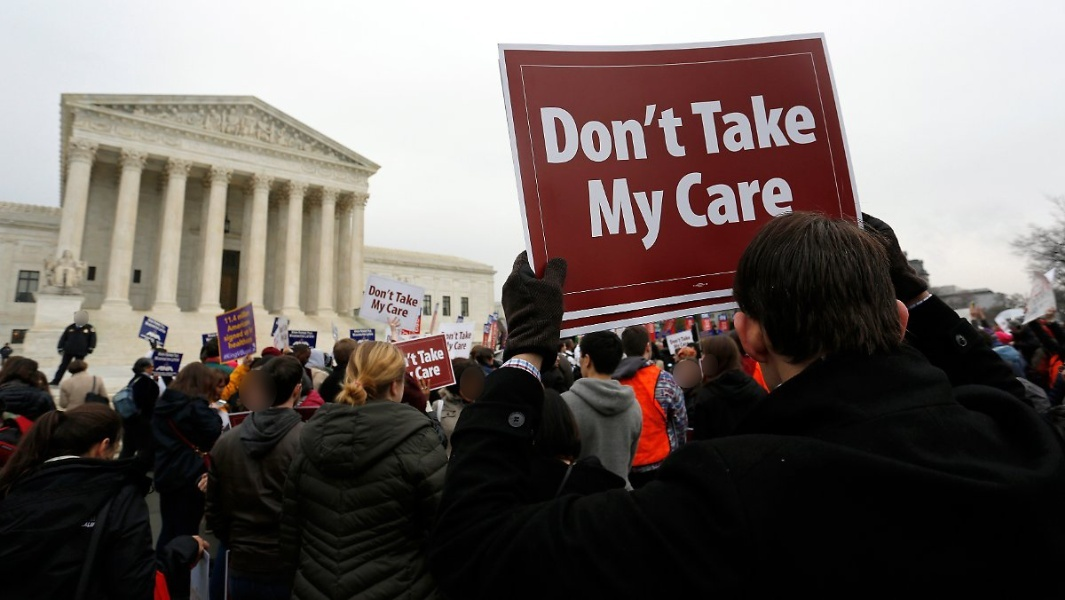text: (657, 175, 673, 253), (593, 175, 608, 253), (609, 175, 624, 253), (625, 175, 640, 253), (641, 175, 656, 253), (545, 98, 560, 166), (561, 98, 576, 166), (577, 98, 592, 166), (593, 98, 608, 166), (609, 98, 624, 166), (625, 98, 640, 166), (641, 98, 656, 166), (657, 98, 672, 166), (705, 90, 720, 158), (721, 90, 736, 158), (737, 90, 752, 158), (753, 90, 768, 158), (769, 90, 784, 158), (785, 90, 800, 158), (801, 90, 816, 158), (673, 98, 687, 166), (690, 90, 704, 158), (673, 173, 688, 233), (689, 173, 704, 233), (705, 173, 720, 233), (721, 173, 736, 233), (737, 173, 752, 233), (753, 173, 768, 233), (769, 173, 784, 233), (785, 173, 798, 233), (584, 175, 592, 253), (537, 98, 544, 166), (417, 345, 432, 365), (401, 350, 416, 370), (401, 289, 416, 308), (225, 325, 240, 344), (417, 363, 432, 381), (146, 316, 160, 335), (241, 325, 255, 344), (433, 345, 446, 365), (372, 295, 384, 316), (225, 309, 240, 325), (673, 332, 688, 348), (225, 318, 240, 333), (371, 285, 384, 302), (225, 347, 240, 361), (817, 90, 820, 158), (387, 302, 400, 317), (227, 336, 240, 350), (241, 336, 254, 350), (433, 363, 443, 381), (241, 318, 253, 333), (385, 285, 395, 302), (241, 347, 253, 361), (161, 352, 176, 363), (241, 309, 251, 325), (401, 302, 411, 317), (289, 330, 304, 340), (161, 316, 167, 335), (305, 330, 316, 340), (353, 330, 368, 337), (689, 332, 695, 348), (449, 331, 458, 341), (455, 341, 464, 350), (449, 341, 455, 352), (465, 332, 473, 340), (668, 332, 672, 348), (671, 173, 672, 233), (417, 350, 420, 370), (442, 331, 448, 341), (397, 289, 400, 308), (417, 289, 420, 308), (221, 325, 224, 344), (155, 352, 160, 363), (413, 363, 416, 381), (465, 341, 470, 350), (177, 352, 181, 363), (444, 341, 448, 352), (385, 295, 387, 316), (369, 330, 375, 337), (460, 332, 464, 340), (222, 309, 224, 325), (222, 347, 224, 361), (415, 345, 416, 365), (351, 330, 352, 337)
